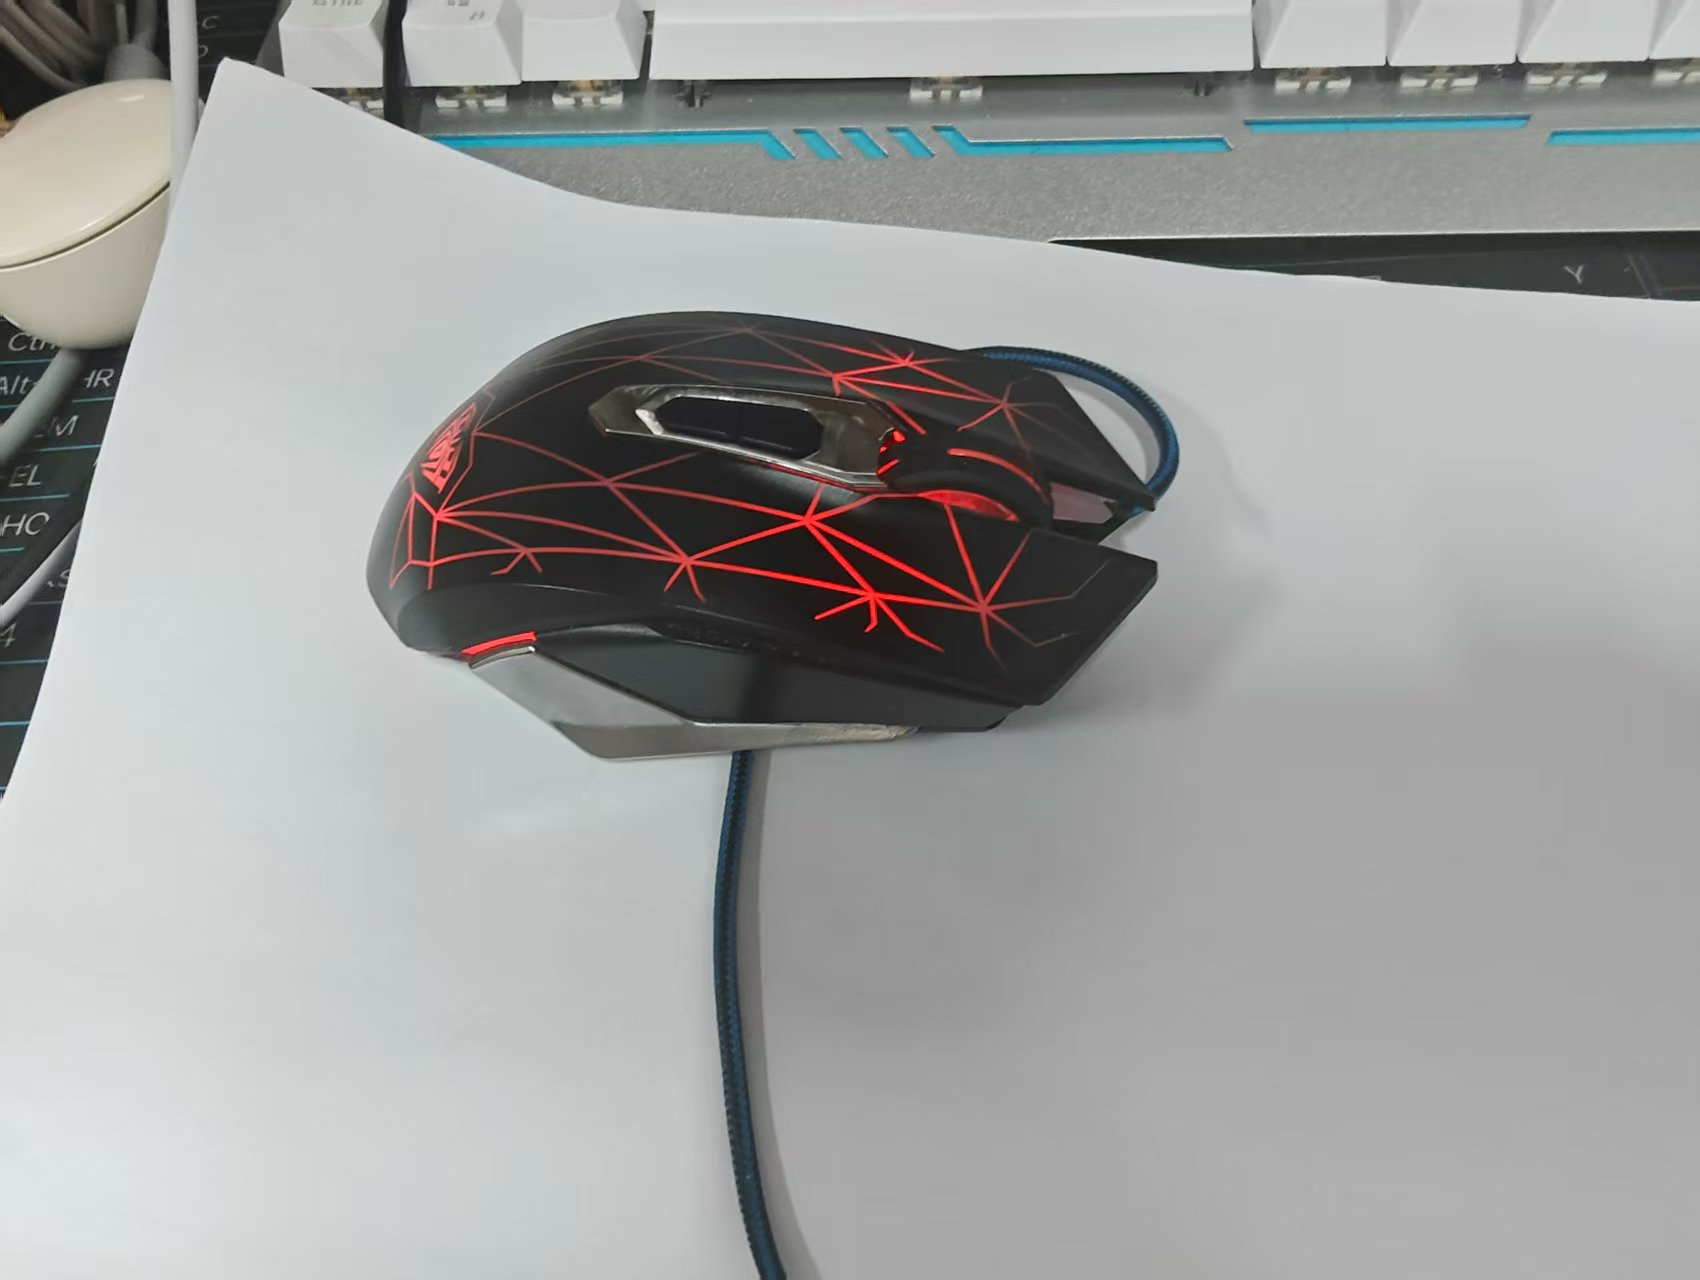mouse: (298, 292, 1197, 787)
